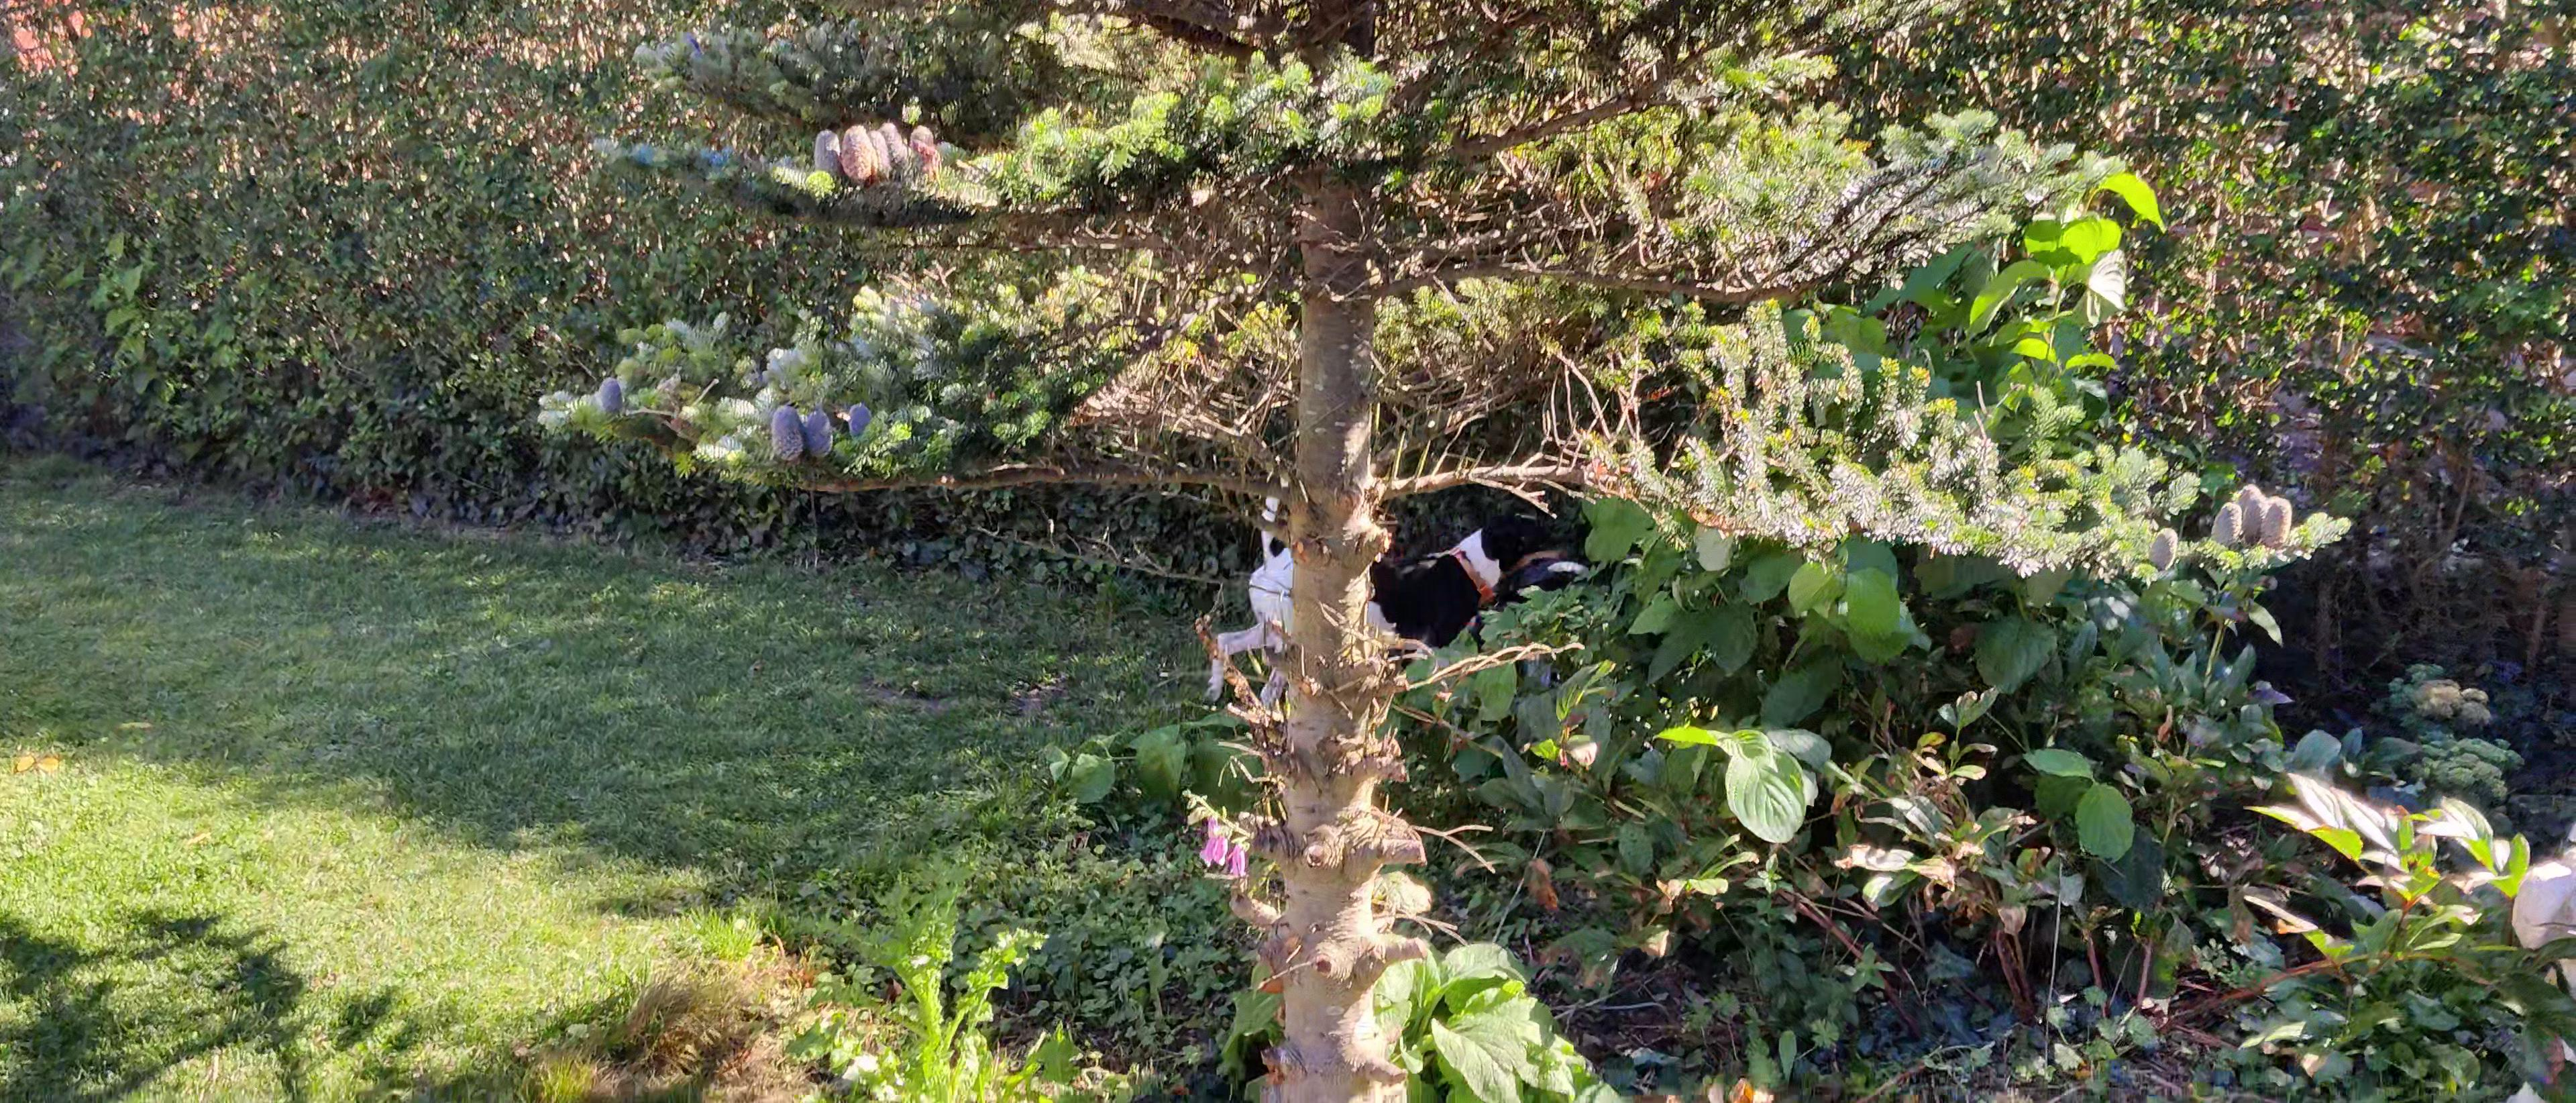Dog: (1204, 488, 1577, 705)
